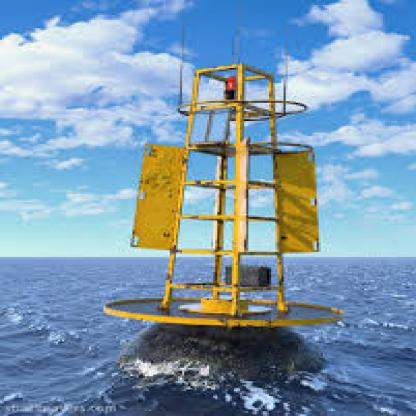buoy: (93, 38, 354, 342)
